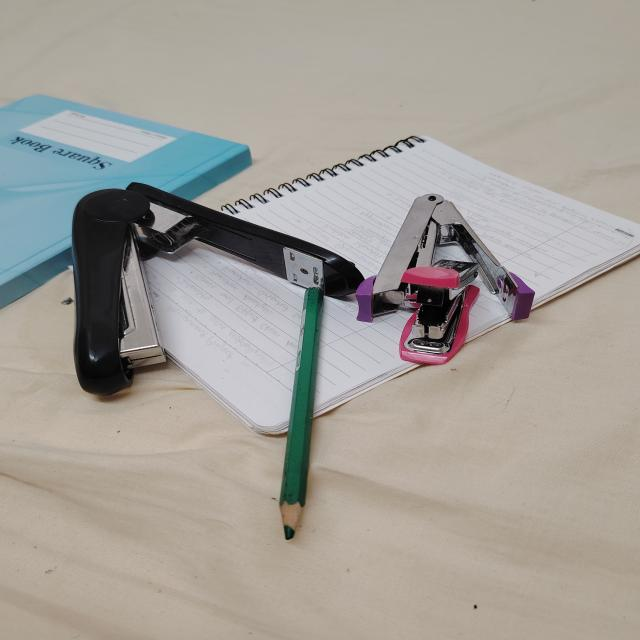pencil: (279, 288, 323, 540)
stapler: (72, 183, 362, 395), (356, 194, 534, 322), (400, 260, 479, 364)
